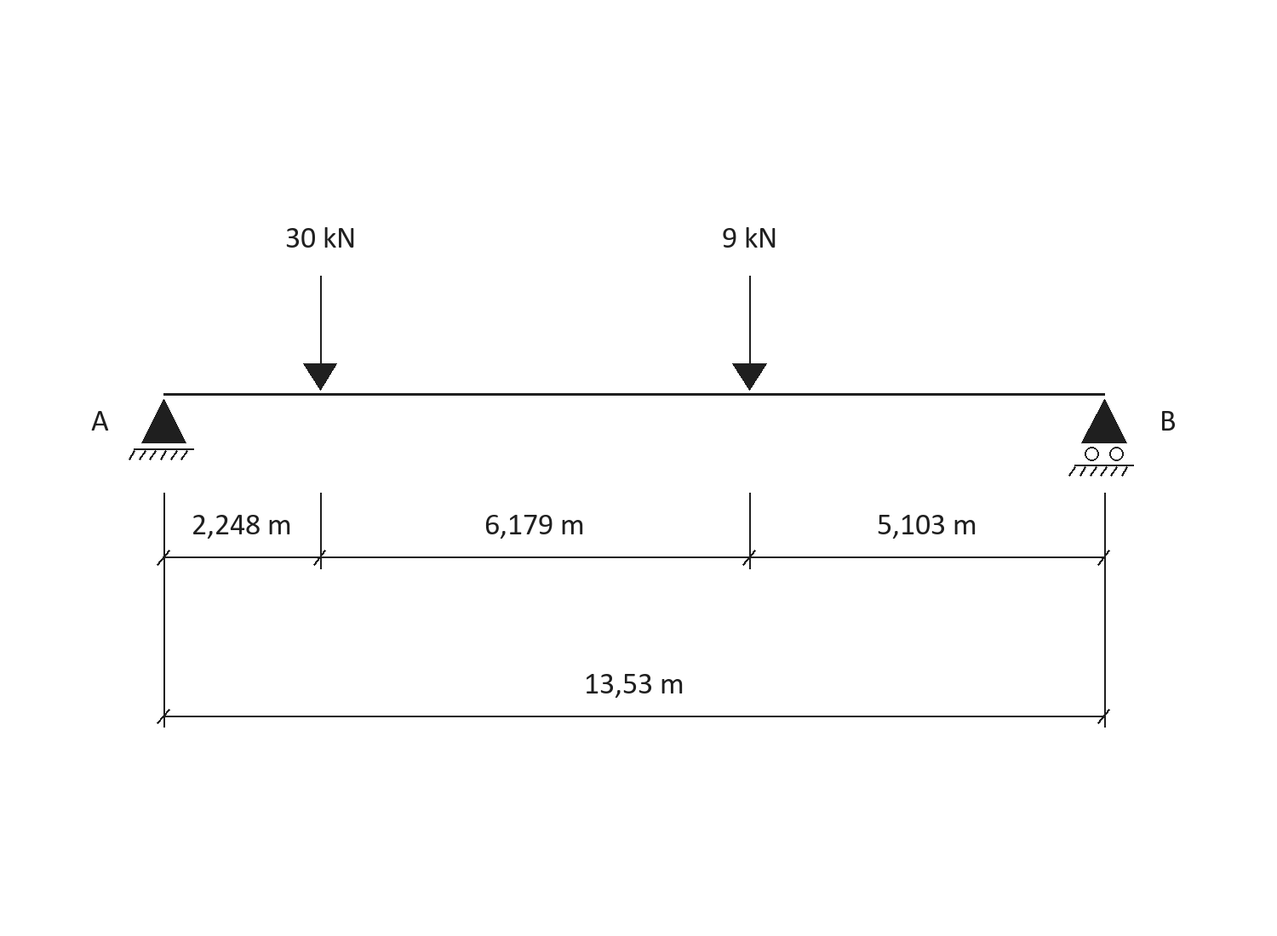pin_support: (129, 399, 194, 460)
point_load: (732, 276, 767, 391), (303, 276, 337, 391)
roller_support: (1068, 399, 1134, 477)
